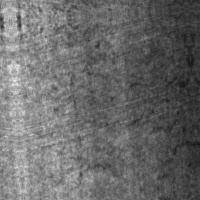crazing: (74, 72, 196, 138)
